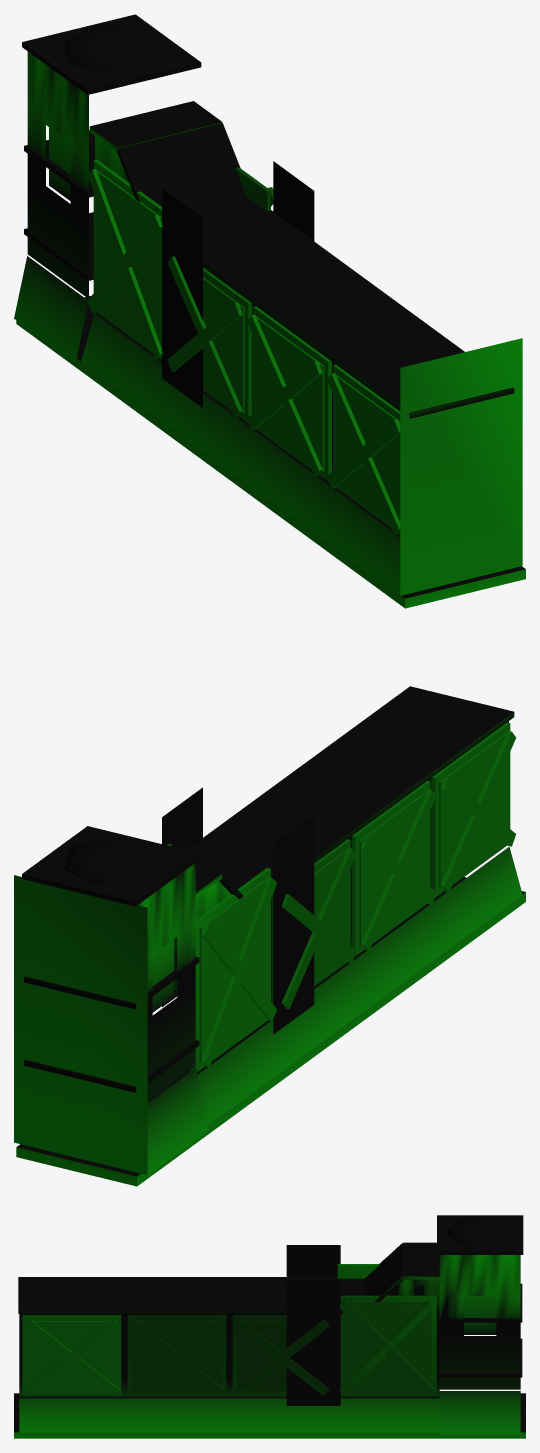
The model's file is l_mediumwall.glb.
3 renders of one model, top to bottom at view 1: azimuth 30°, elevation 25°; view 2: azimuth 150°, elevation 25°; view 3: azimuth 270°, elevation 25°, orthographic. The views are drawn at different scales.
Parts seen in each view (by area): view 1: lod0; view 2: lod0; view 3: lod0.
Part boxes in pixels (x1,y1,x2,y2): lod0: (14, 14, 525, 608); lod0: (14, 686, 525, 1186); lod0: (14, 1215, 525, 1438).
Size of what is drawn, in the model's own units: 5.65 by 12.1 by 28.45.
